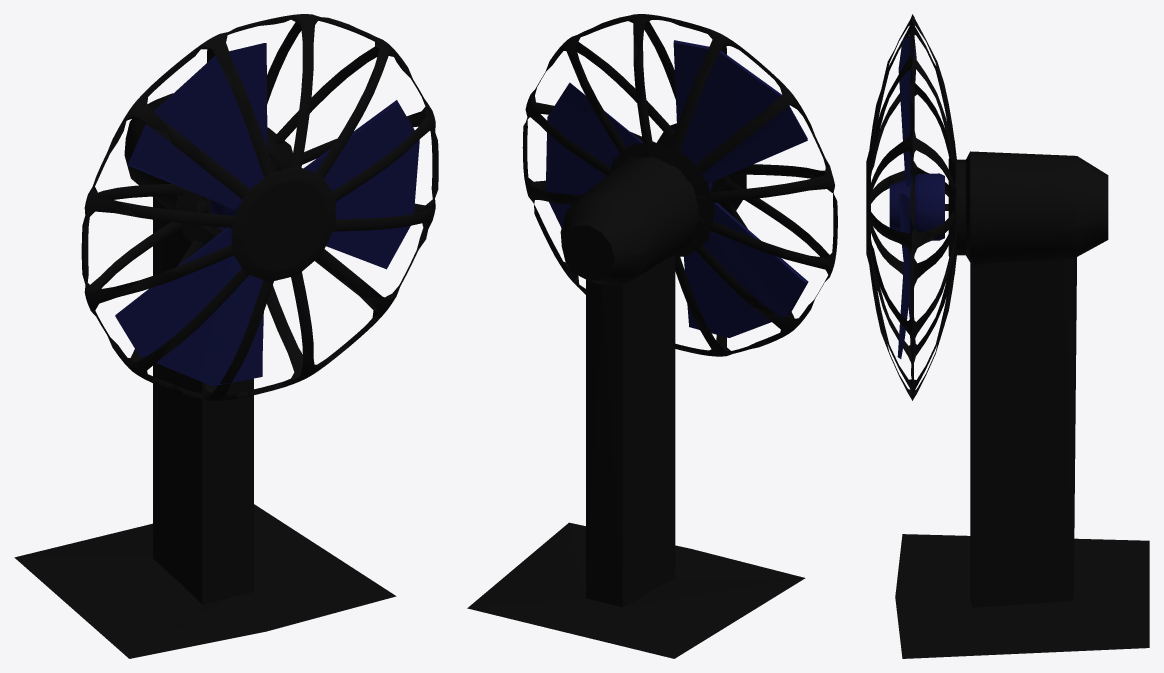
The model's file is Ventilador2.FBX.
The picture shows the model from 3 angles, left to right: view 1: azimuth 30°, elevation 25°; view 2: azimuth 150°, elevation 25°; view 3: azimuth 270°, elevation 25°; orthographic projection. The views are drawn at different scales.
Visible parts, largest first — view 1: a (×2); view 2: a (×2); view 3: a (×2).
Part boxes in pixels (<box>): a (×2): <box>14,14,438,658</box>; a (×2): <box>467,14,837,658</box>; a (×2): <box>866,14,1149,658</box>.
Size of the model in its own units: 28.03 by 45.53 by 20.67.
